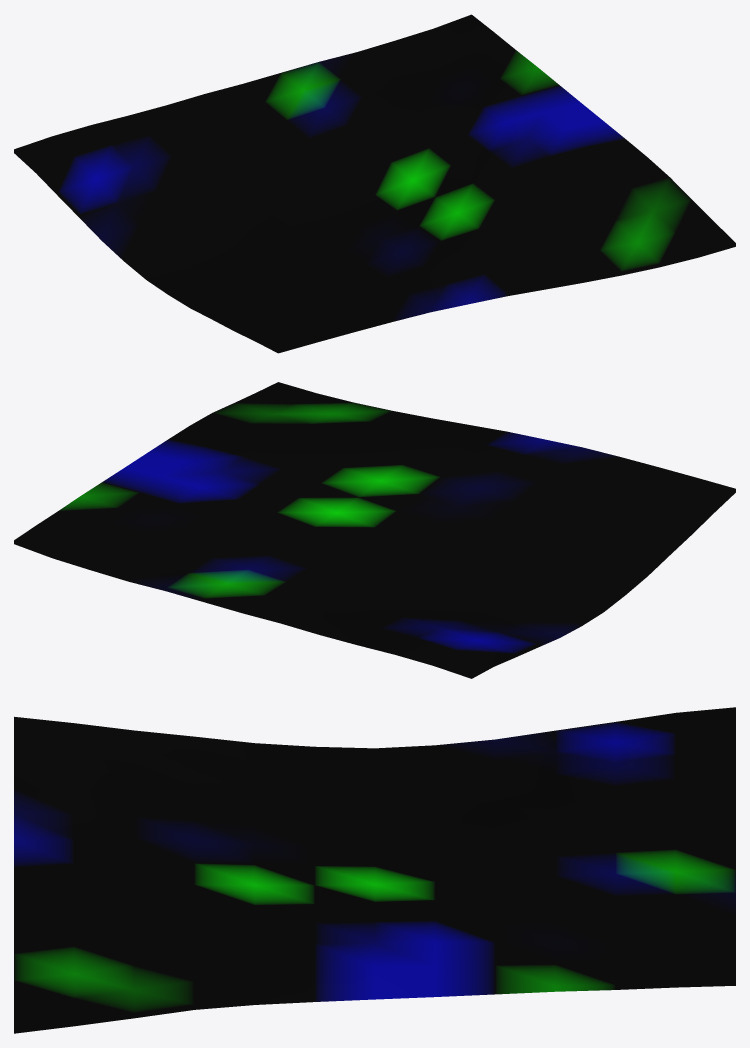
Rendered from coast_5_2.glb.
3 renders of one model, top to bottom at view 1: azimuth 30°, elevation 25°; view 2: azimuth 150°, elevation 25°; view 3: azimuth 270°, elevation 25°, orthographic. The views are drawn at different scales.
Parts seen in each view (by area): view 1: terrain; view 2: terrain; view 3: terrain.
Part boxes in pixels (x1,y1,x2,y2): terrain: (14,14,735,353); terrain: (14,382,735,678); terrain: (14,707,735,1033).
Size of the model in its own units: 192 by 22.85 by 192.
